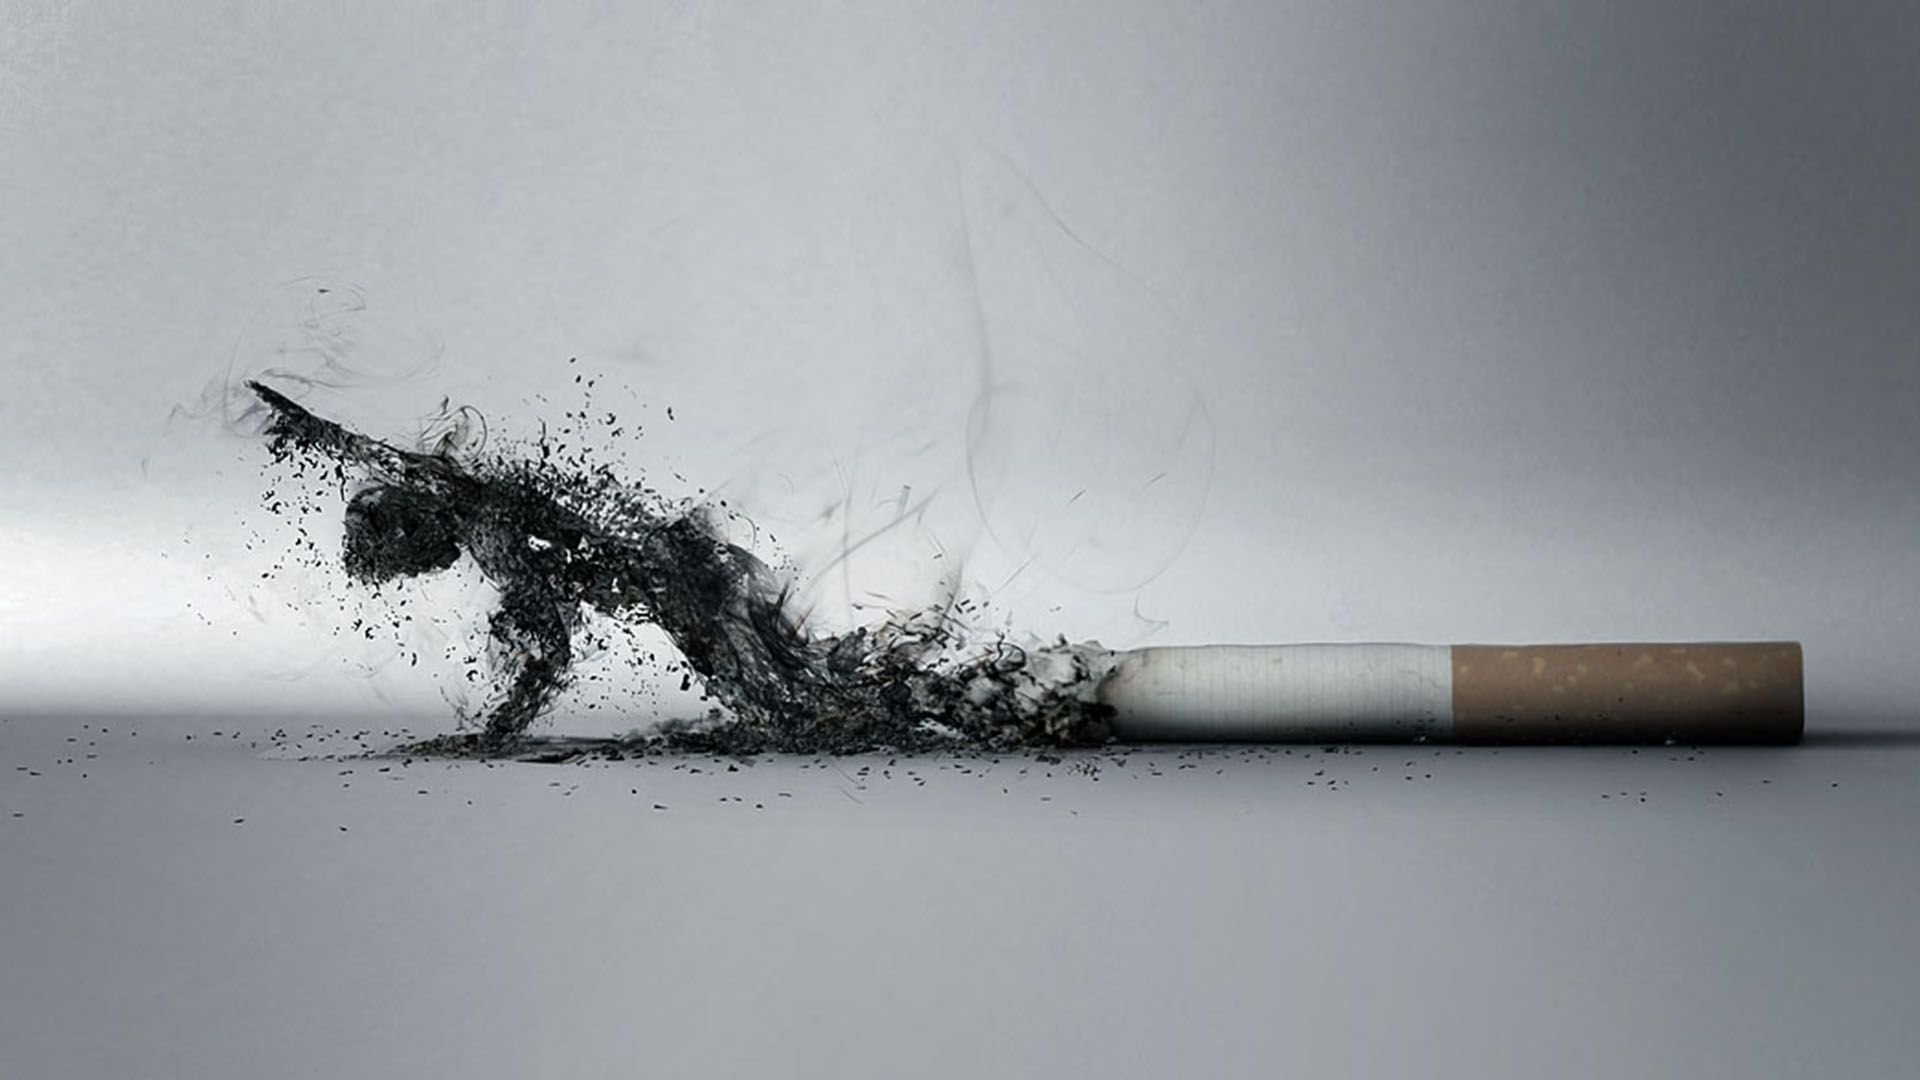cigarette: (1014, 644, 1840, 746)
